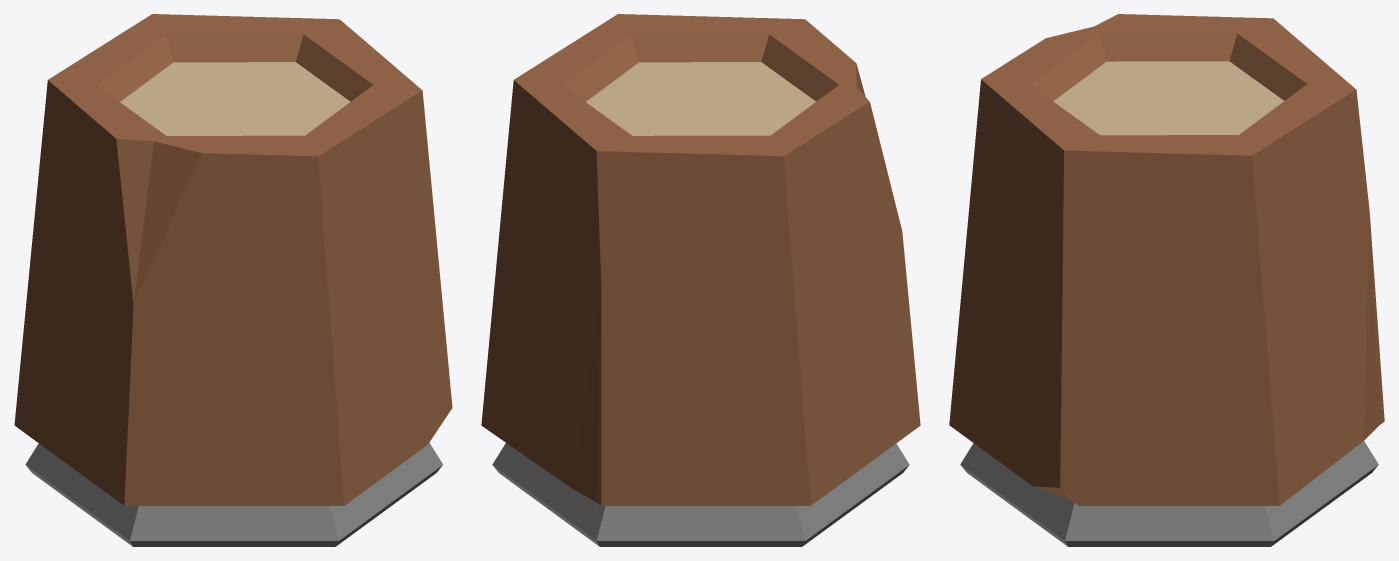
Rendered from LogFloatingPlatform.fbx.
3 views of the same model, side by side, from view 1: azimuth 30°, elevation 25°; view 2: azimuth 150°, elevation 25°; view 3: azimuth 270°, elevation 25° (orthographic).
Parts seen in each view (by area): view 1: LogFloatingPlatform; view 2: LogFloatingPlatform; view 3: LogFloatingPlatform.
Boxes of the visible parts, x1,y1,x2,y2 form: LogFloatingPlatform: [14, 14, 452, 546]; LogFloatingPlatform: [481, 14, 920, 546]; LogFloatingPlatform: [949, 14, 1384, 546].
Size of the model in its own units: 52.47 by 58.98 by 59.89.
